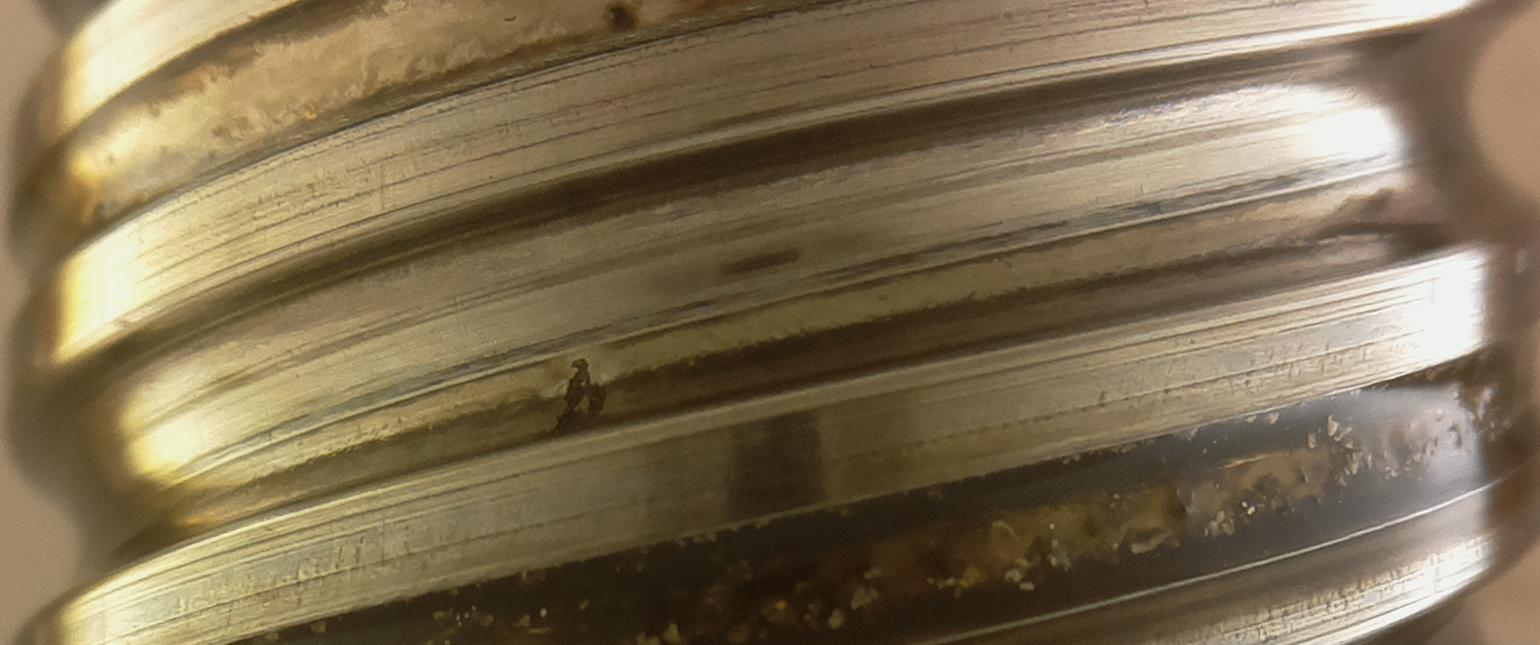pitting: (555, 358, 607, 434)
